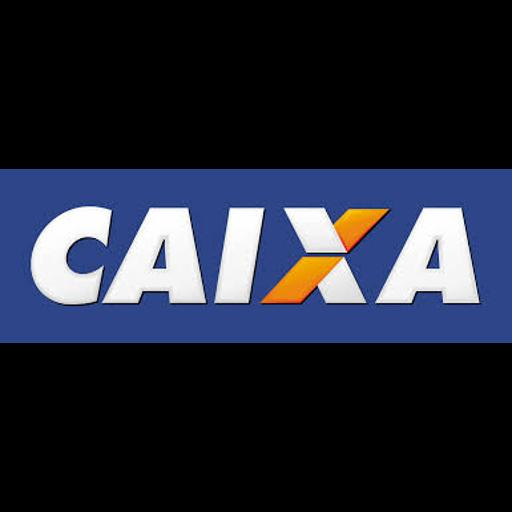Caixa Economica Federal: (0, 169, 512, 343)
